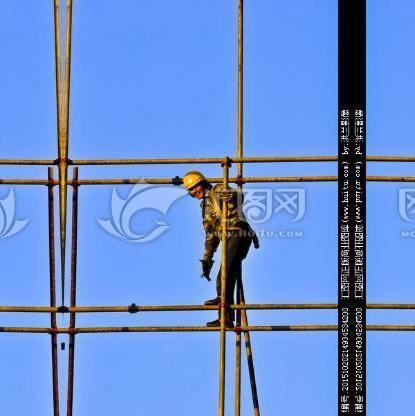helmet: (182, 168, 206, 194)
